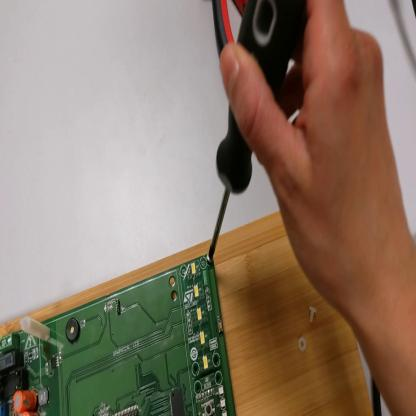hand: (214, 1, 410, 310)
low voltage board: (1, 254, 237, 415)
screwdriver-: (209, 2, 305, 256)
working area: (2, 209, 375, 416)
